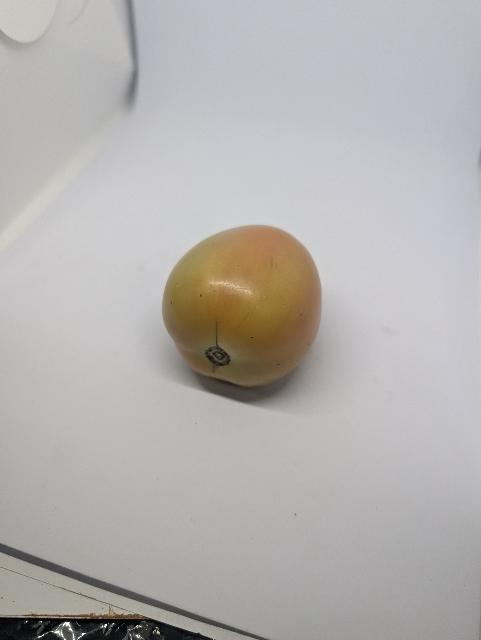turning: (160, 223, 328, 405)
